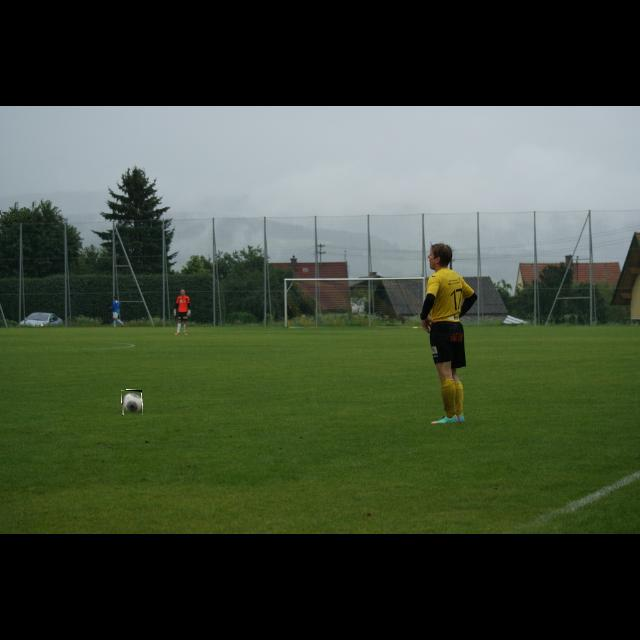Football: (122, 390, 142, 416)
